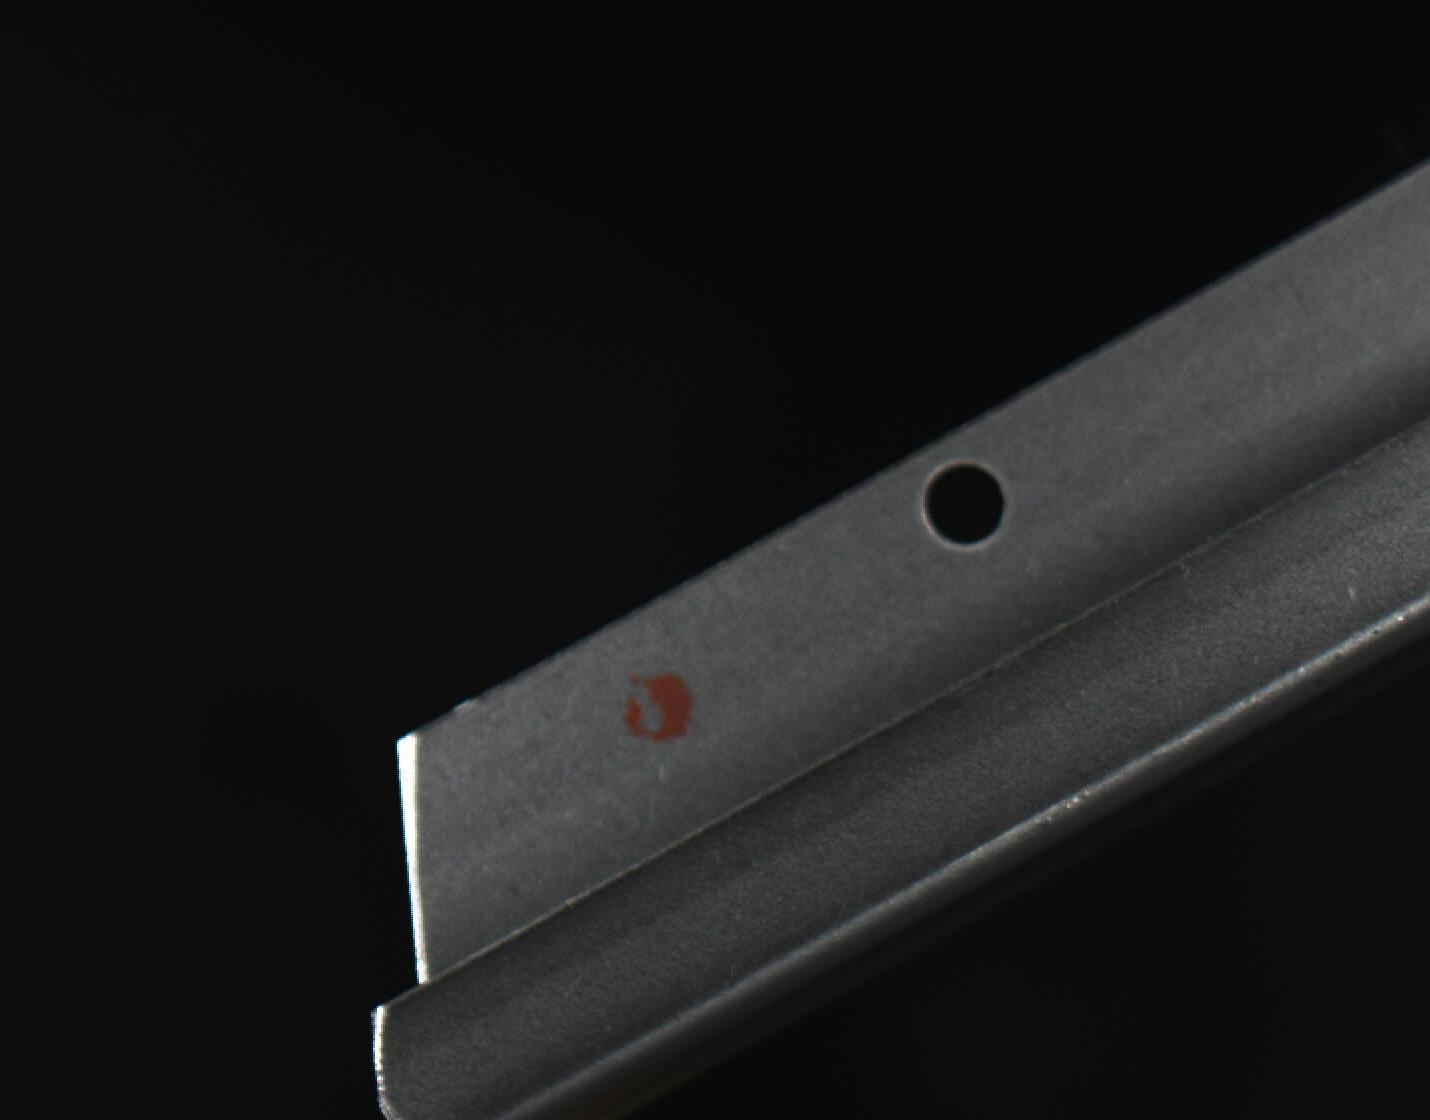cut: (335, 636, 723, 1114)
holes: (920, 458, 1011, 549)
